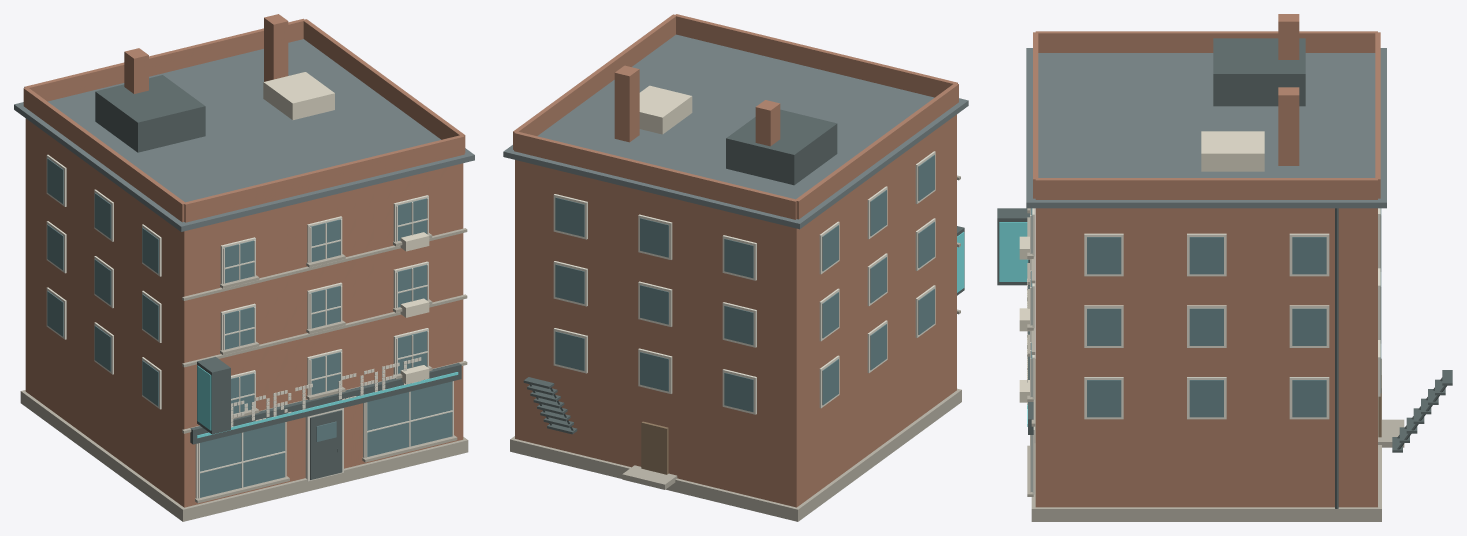
The picture shows the model from 3 angles, left to right: view 1: azimuth 30°, elevation 25°; view 2: azimuth 150°, elevation 25°; view 3: azimuth 270°, elevation 25°; orthographic projection. The views are drawn at different scales.
Bounding box in the file's own units: 13.9 × 16.44 × 17.3.
